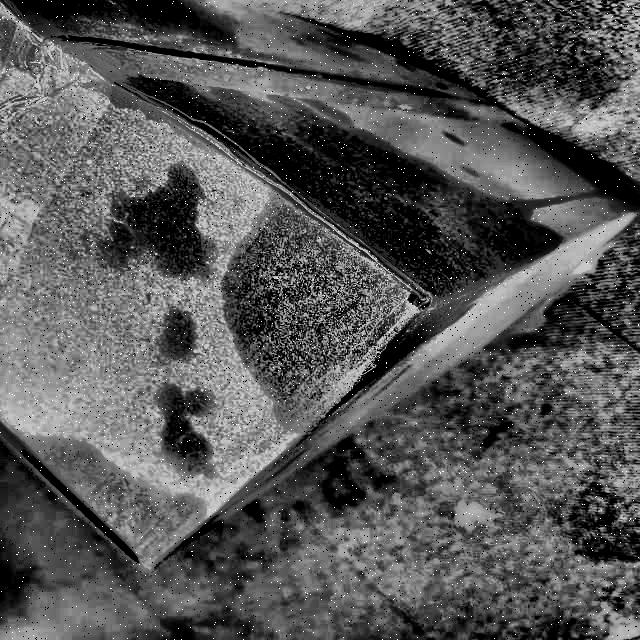box: (1, 0, 640, 555)
wet: (212, 119, 512, 438), (6, 433, 212, 567)
